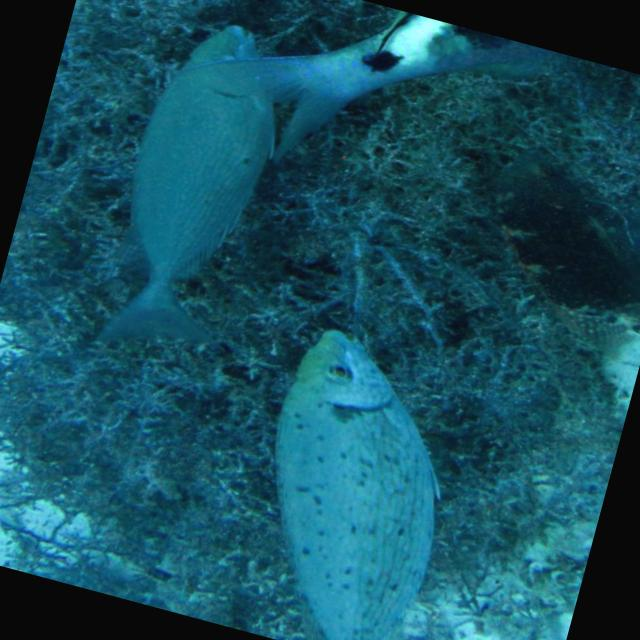Sokar Baligi: (195, 307, 496, 640), (70, 0, 318, 385)
